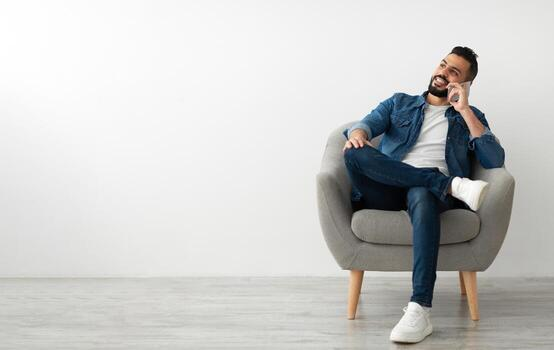distracted: (402, 34, 483, 134)
